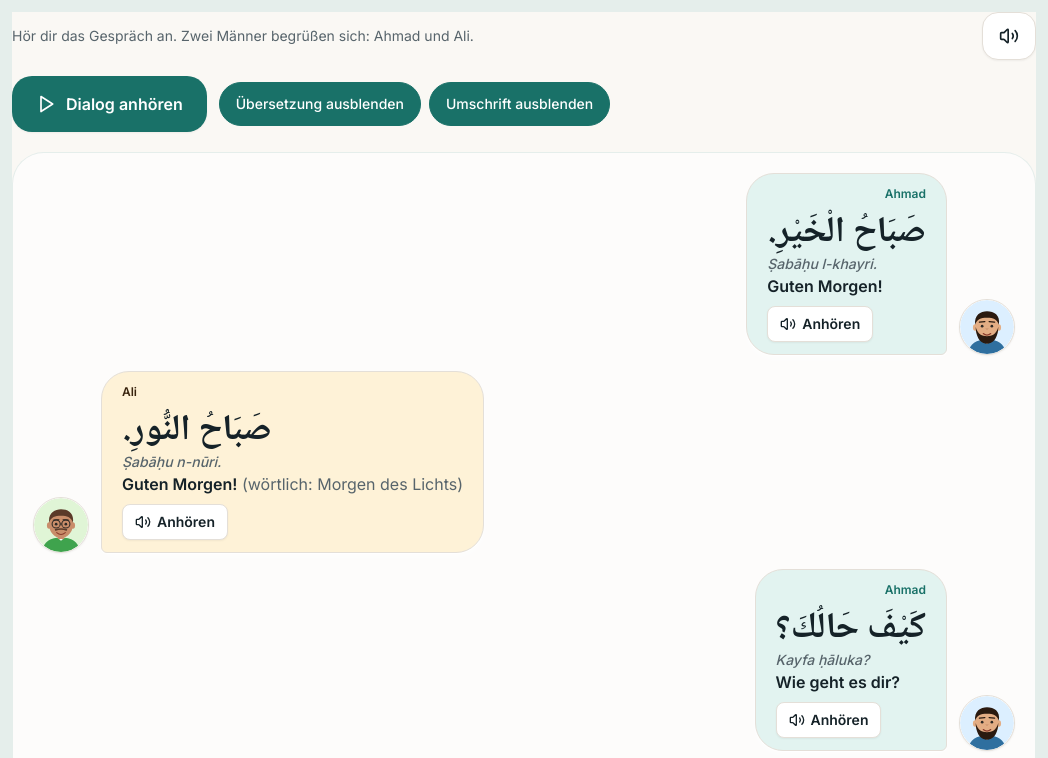
it: Anhören – controls › when /api/tts cannot be reached, the dialogue still runs and says so
The width and height of the screenshot is (1048, 758).
Click the button with test id "dialogue-play-all": {"x": 109, "y": 104} left=12, top=76, right=207, bottom=132
Wait 2400 ms
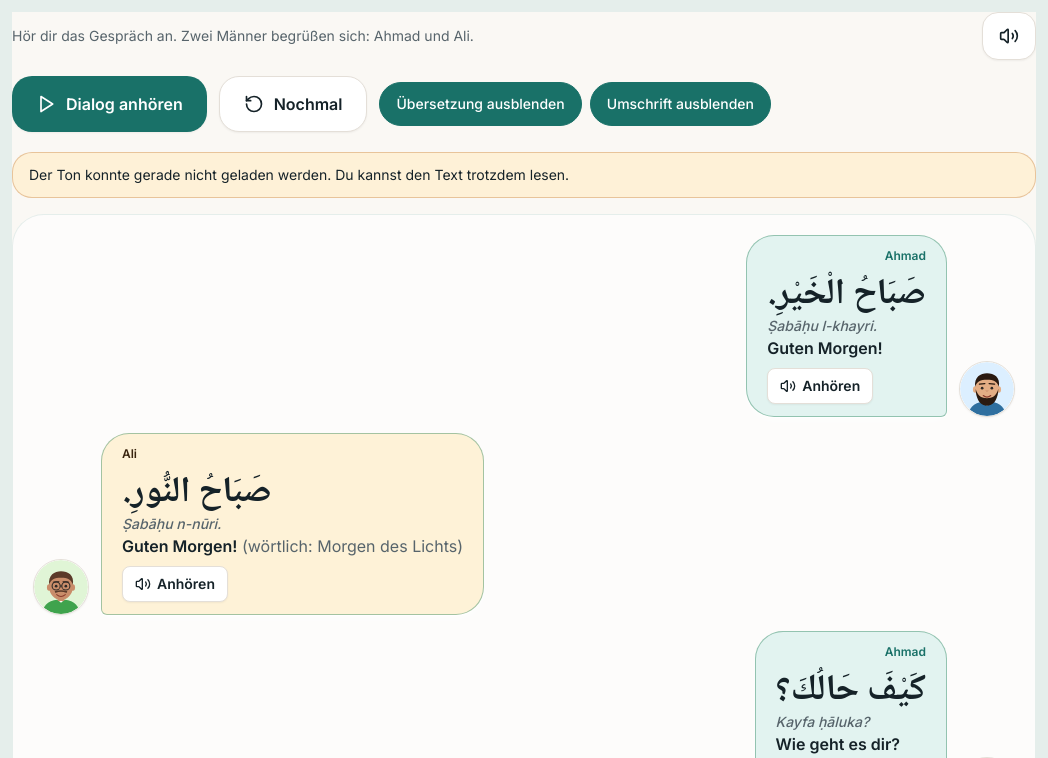
Result: the message with test id "dialogue-note" shows "Der Ton konnte gerade nicht geladen werden." at left=29, top=166, right=569, bottom=183
